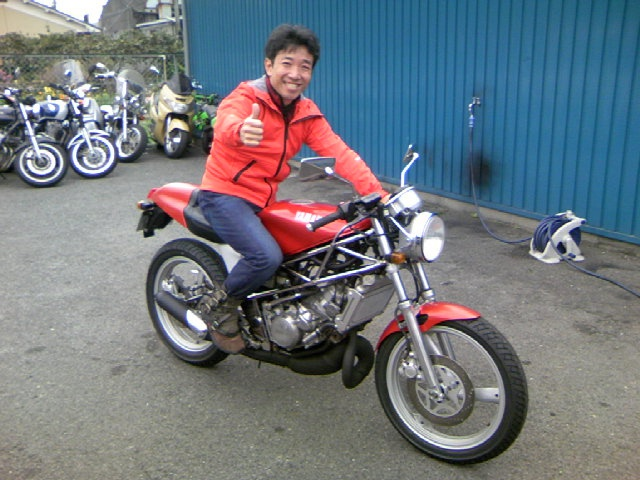non-vehicle: (136, 142, 529, 465), (27, 64, 118, 178), (0, 66, 68, 187), (92, 62, 146, 162), (139, 72, 191, 158), (187, 92, 218, 154)
